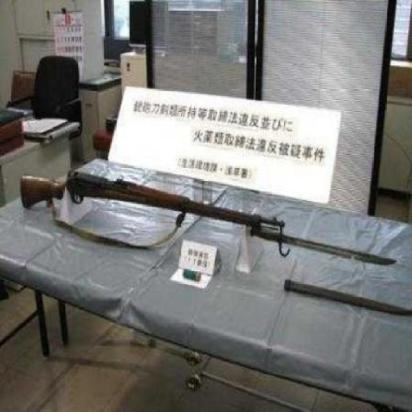Gun: (20, 165, 291, 248)
